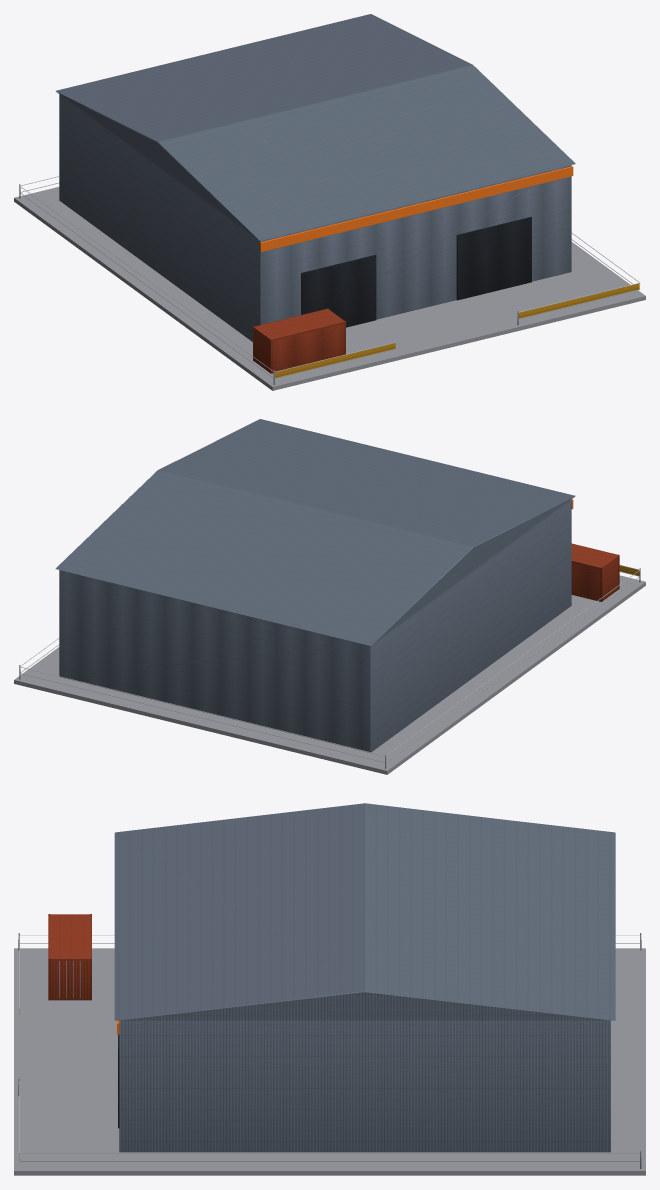
File: galpao_1.glb
3 views of the same model, one above another, from view 1: azimuth 30°, elevation 25°; view 2: azimuth 150°, elevation 25°; view 3: azimuth 270°, elevation 25° (orthographic). The views are drawn at different scales.
Parts seen in each view (by area): view 1: galpao_1, galpao_1_liso; view 2: galpao_1, galpao_1_liso; view 3: galpao_1, galpao_1_liso.
Boxes of the visible parts, left/top/right/bottom form: galpao_1: left=19, top=14, right=639, bottom=384; galpao_1_liso: left=14, top=166, right=645, bottom=390; galpao_1: left=19, top=419, right=640, bottom=768; galpao_1_liso: left=14, top=499, right=645, bottom=774; galpao_1: left=18, top=803, right=641, bottom=1168; galpao_1_liso: left=14, top=935, right=645, bottom=1175.
Bounding box in the file's own units: 30 × 10.52 × 36.
Materials: 4 (3 with a texture image).
